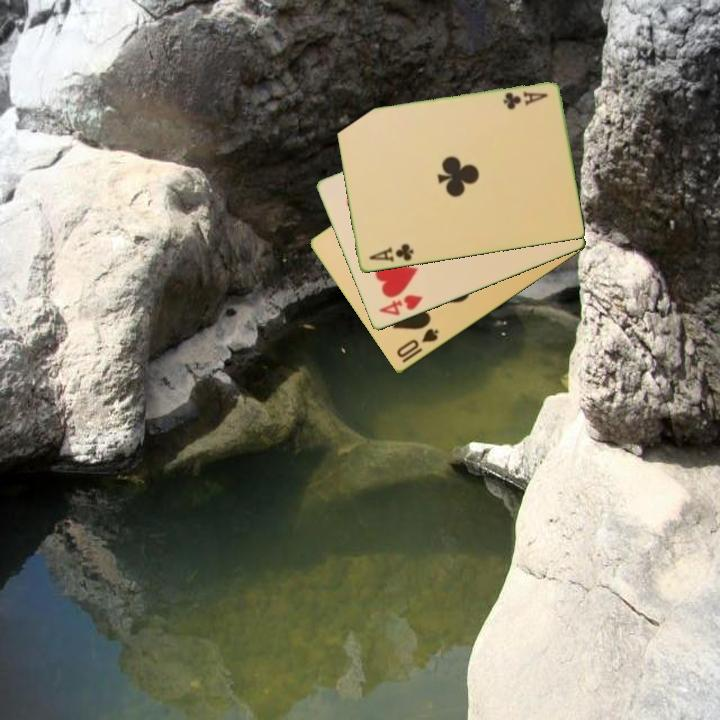10s: (393, 325, 442, 361)
4h: (375, 291, 426, 319)
Ac: (365, 240, 416, 265), (500, 88, 550, 113)
